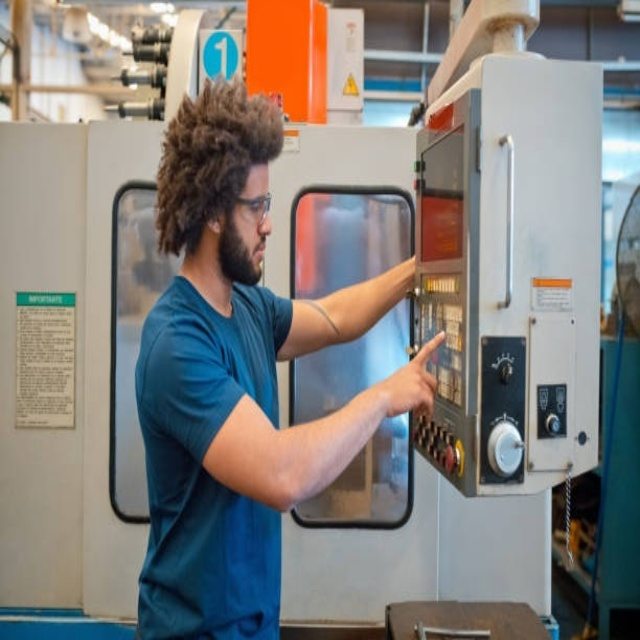Gafas: (234, 192, 272, 223)
Sin_guantes: (393, 329, 448, 420)
Sin_mascara: (250, 234, 271, 273)
